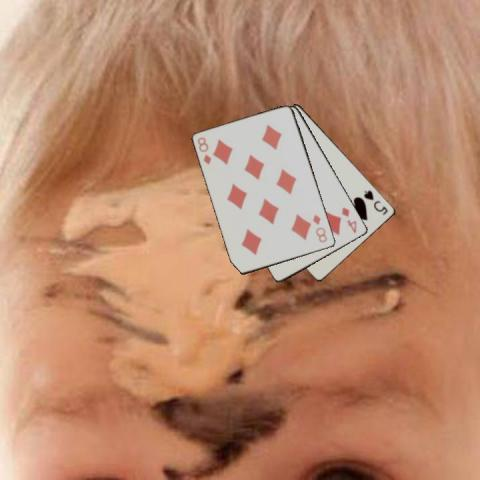4d: (338, 204, 359, 235)
5s: (362, 187, 390, 217)
8d: (310, 211, 329, 244), (194, 134, 212, 166)
